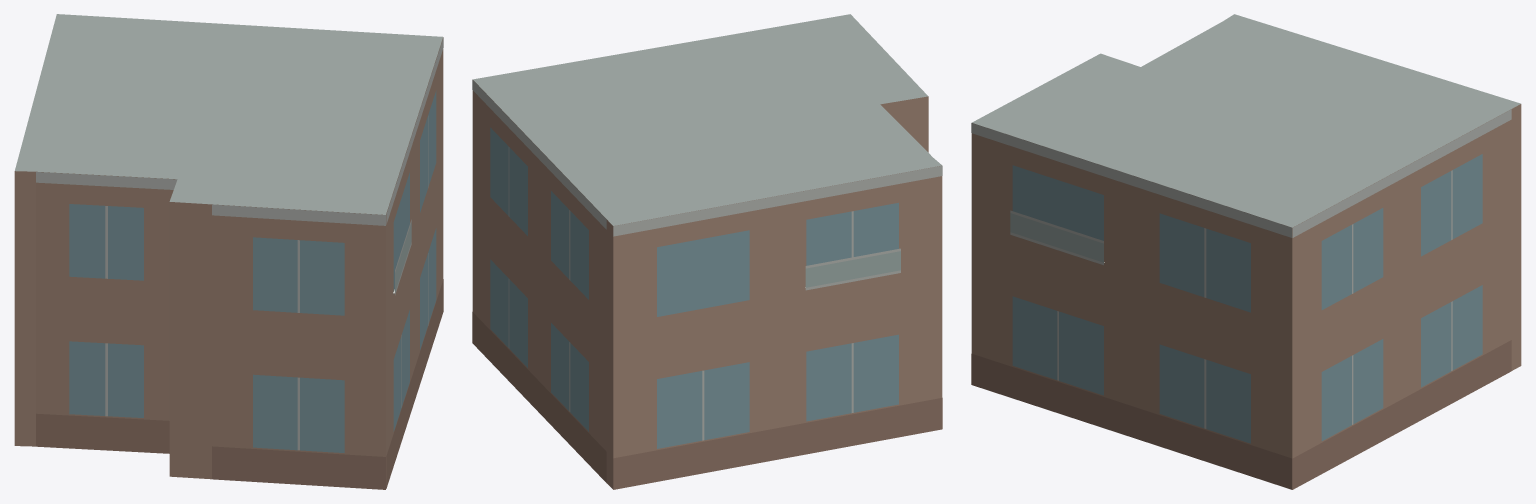
File: survey-upis-32572145.glb
3 views of the same model, side by side, from view 1: azimuth 30°, elevation 25°; view 2: azimuth 150°, elevation 25°; view 3: azimuth 270°, elevation 25° (orthographic). The views are drawn at different scales.
Parts seen in each view (by area): view 1: survey-upis-32572145.tmp; view 2: survey-upis-32572145.tmp; view 3: survey-upis-32572145.tmp.
Part boxes in pixels (x1=…): survey-upis-32572145.tmp: x1=14, y1=14, x2=443, y2=489; survey-upis-32572145.tmp: x1=472, y1=14, x2=942, y2=489; survey-upis-32572145.tmp: x1=971, y1=14, x2=1521, y2=489.
Size of the model in its own units: 10.67 by 6.1 by 11.6.
